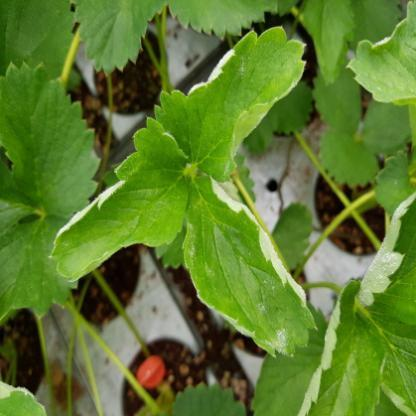Strawberry_Powdery_Mildew_Leaf: (182, 167, 317, 360), (152, 25, 306, 184), (47, 115, 191, 280), (298, 278, 388, 415), (358, 187, 415, 340), (346, 0, 415, 107)
